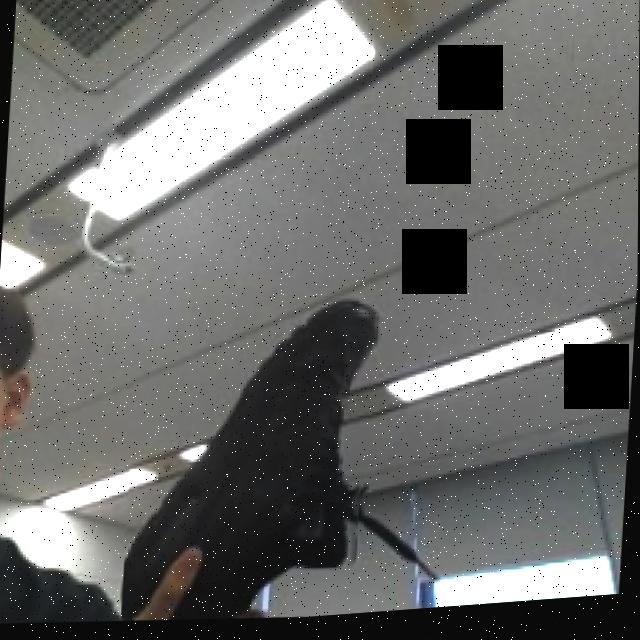shoe: (121, 293, 379, 633)
